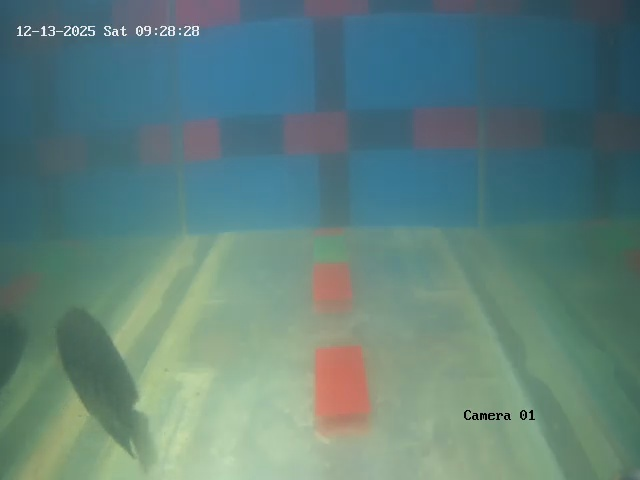fish: (42, 303, 156, 451)
